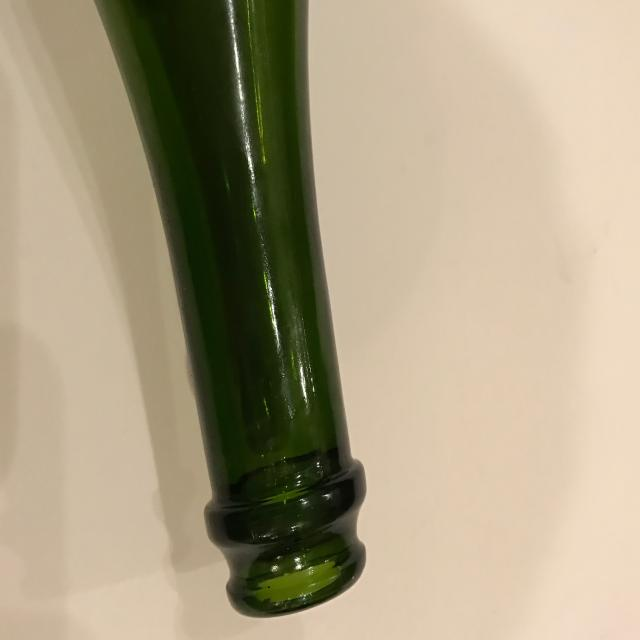glass: (90, 0, 368, 618)
